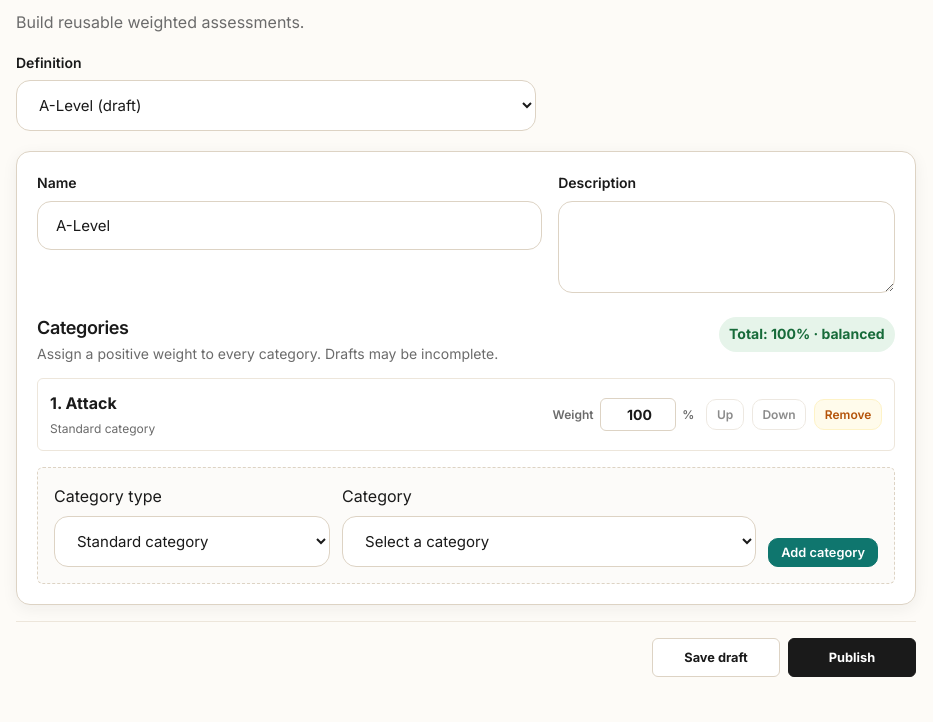
AssessmentDefinitions › hides the confirmation when the save fails, so it cannot contradict the error
This screenshot has width=933, height=722.
(page scrolled)
Click the button "Publish". click: [852, 657]
box: 788,638 -> 916,677
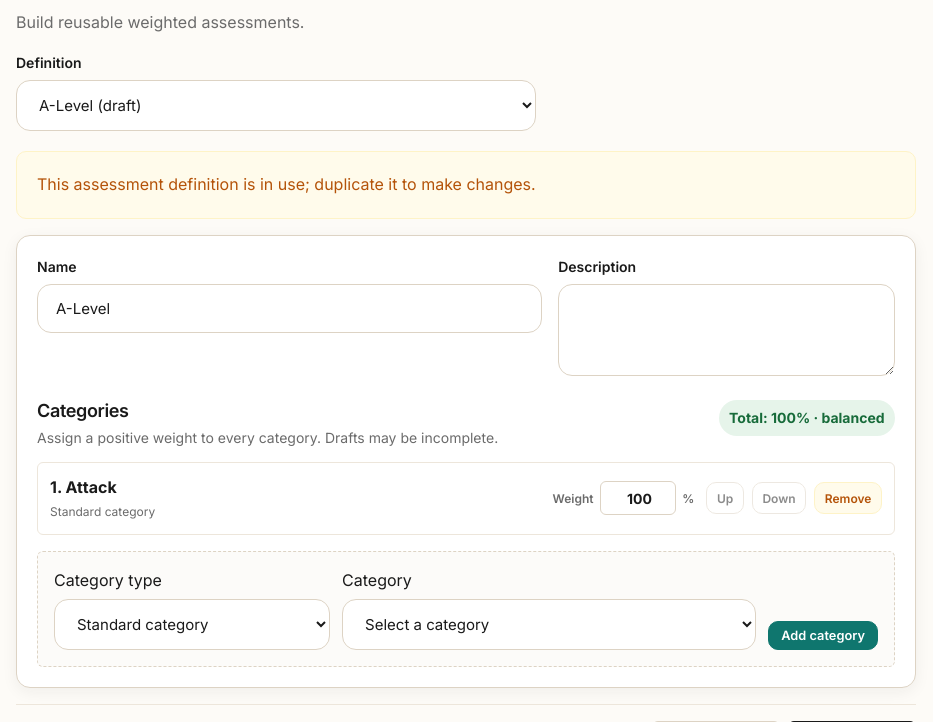
Result: the message shows "in use" at 37,174 -> 536,194
